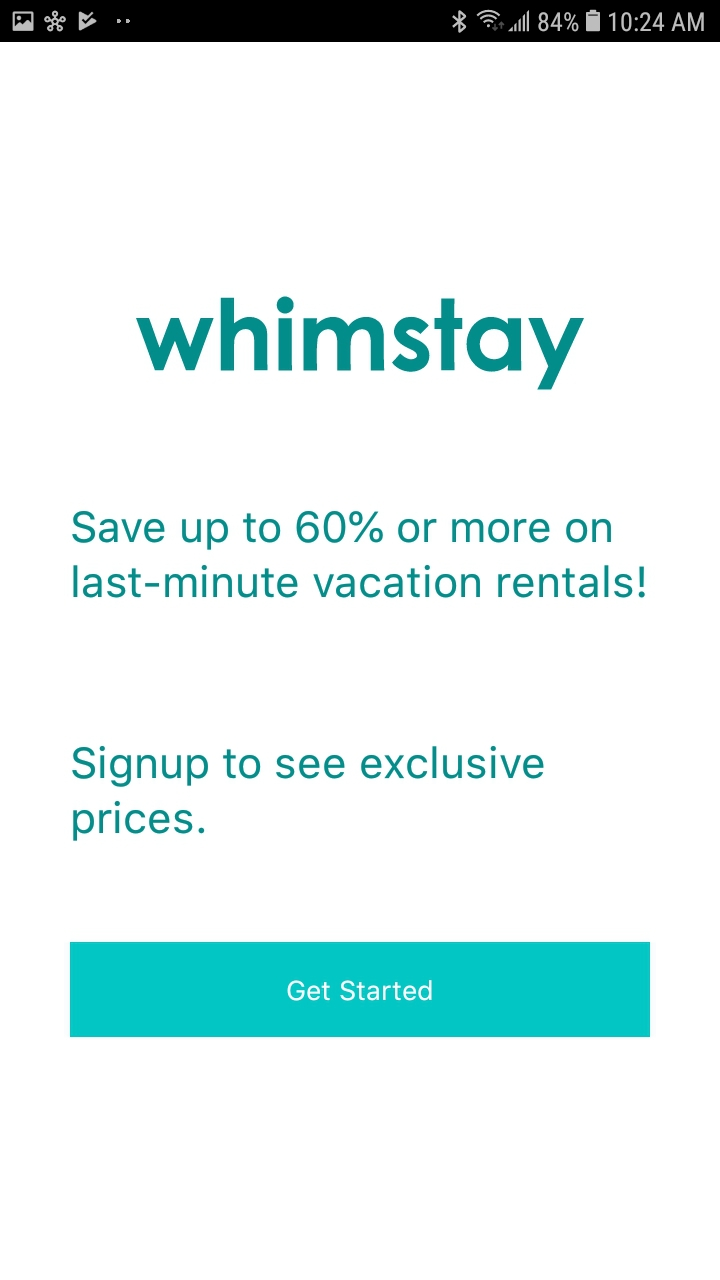Text: (72, 510, 647, 599), (72, 745, 545, 842), (136, 296, 585, 391)
TextButton: (71, 942, 651, 1038)
UpperTaskBar: (2, 2, 720, 44)
